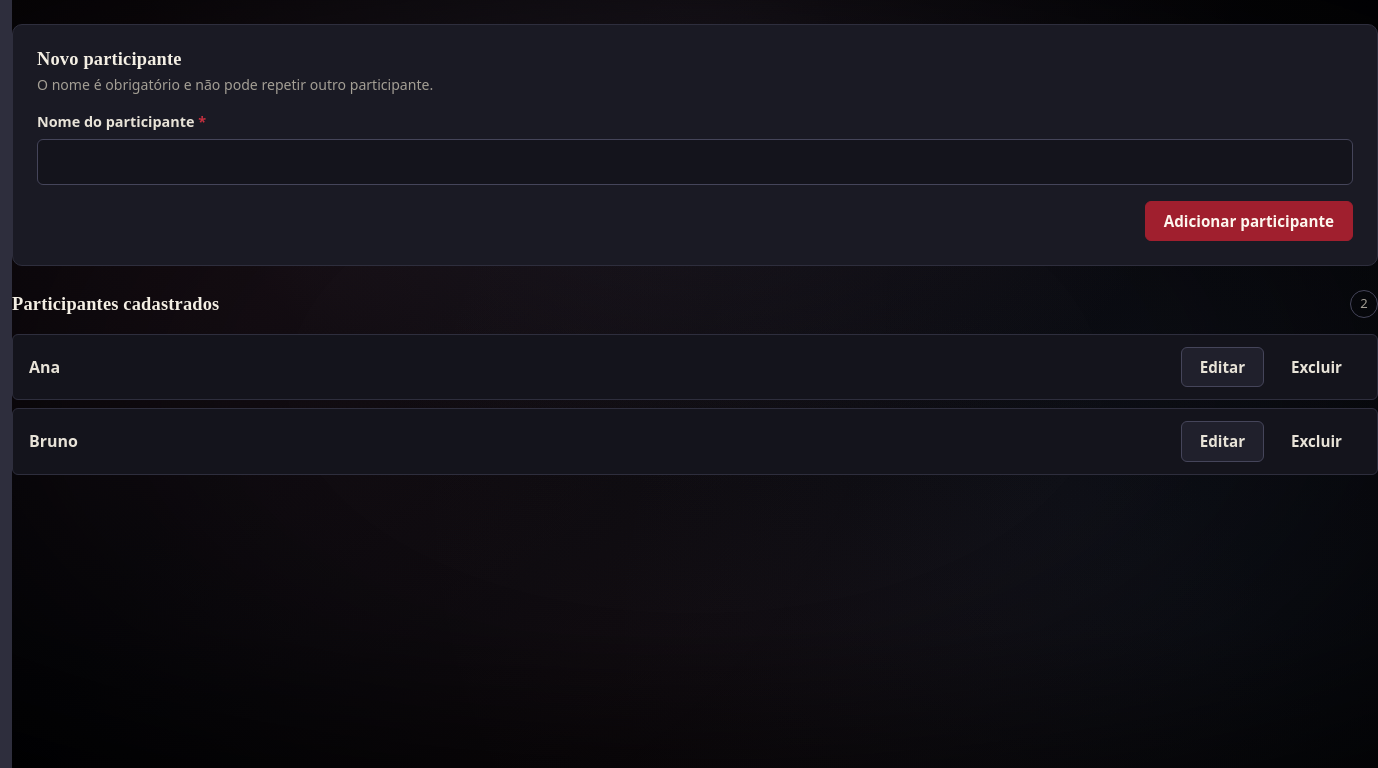
Scenario: ParticipantsPage (integração) › edita um participante mantendo o mesmo id e o vínculo histórico
Check: the text "Ana" is shown, box 29,355 -> 60,379
Step 1. Click the button with aria-label "Editar Ana" → (1222, 367), box 1181,347 -> 1264,387
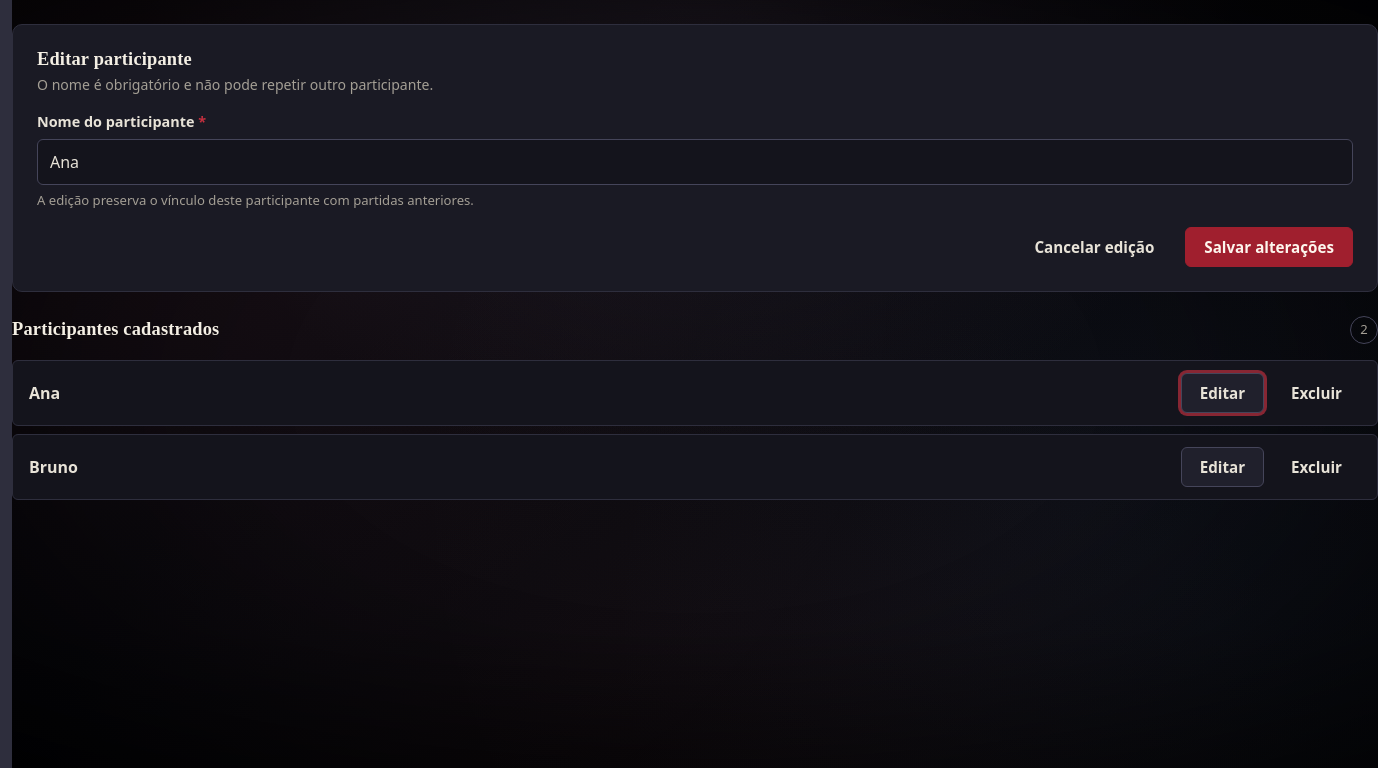
Check: the field labelled "Nome do participante *" holds "Ana"
Step 2. Replace the text in the field labelled "Nome do participante *" with "Ana Maria" → (695, 162), box 37,139 -> 1353,185
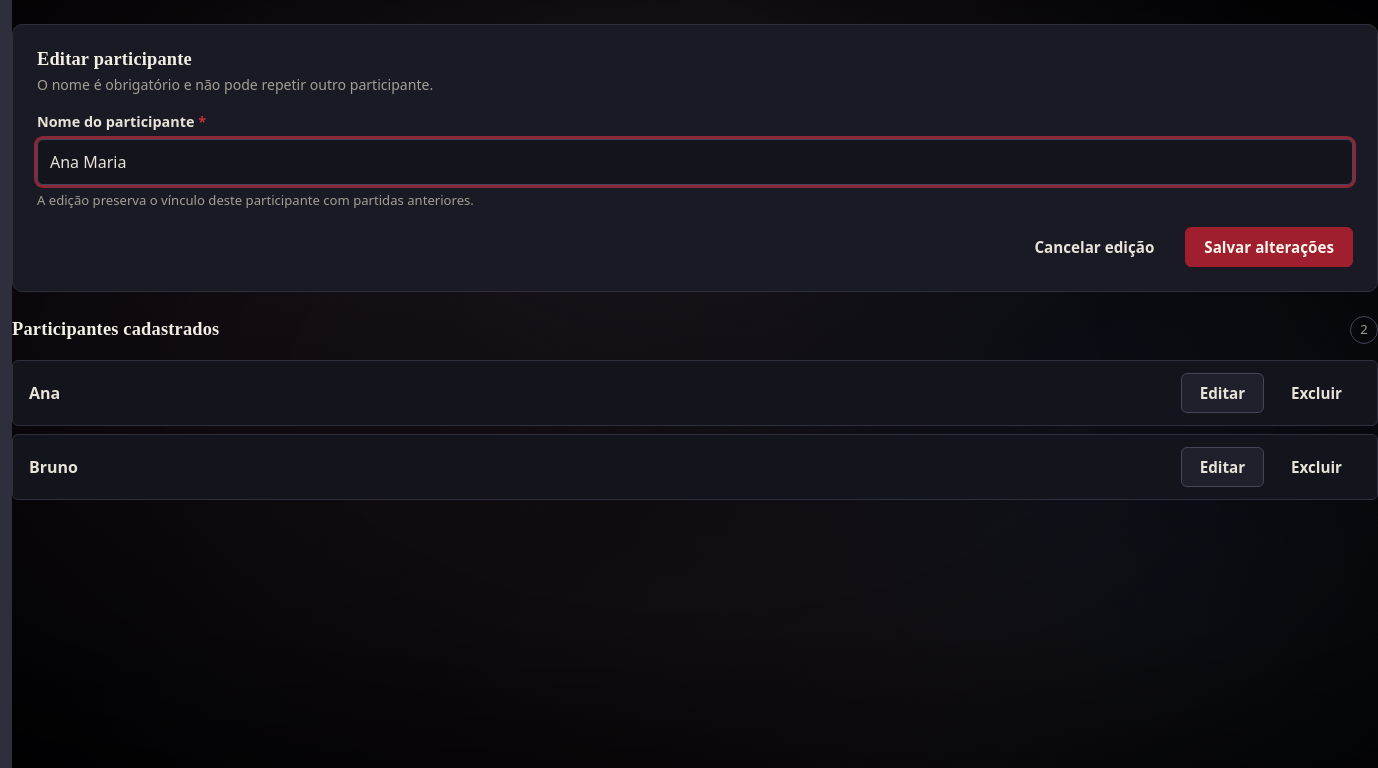
Step 3. Click the button "Salvar alterações" → (1269, 247), box 1185,227 -> 1353,267
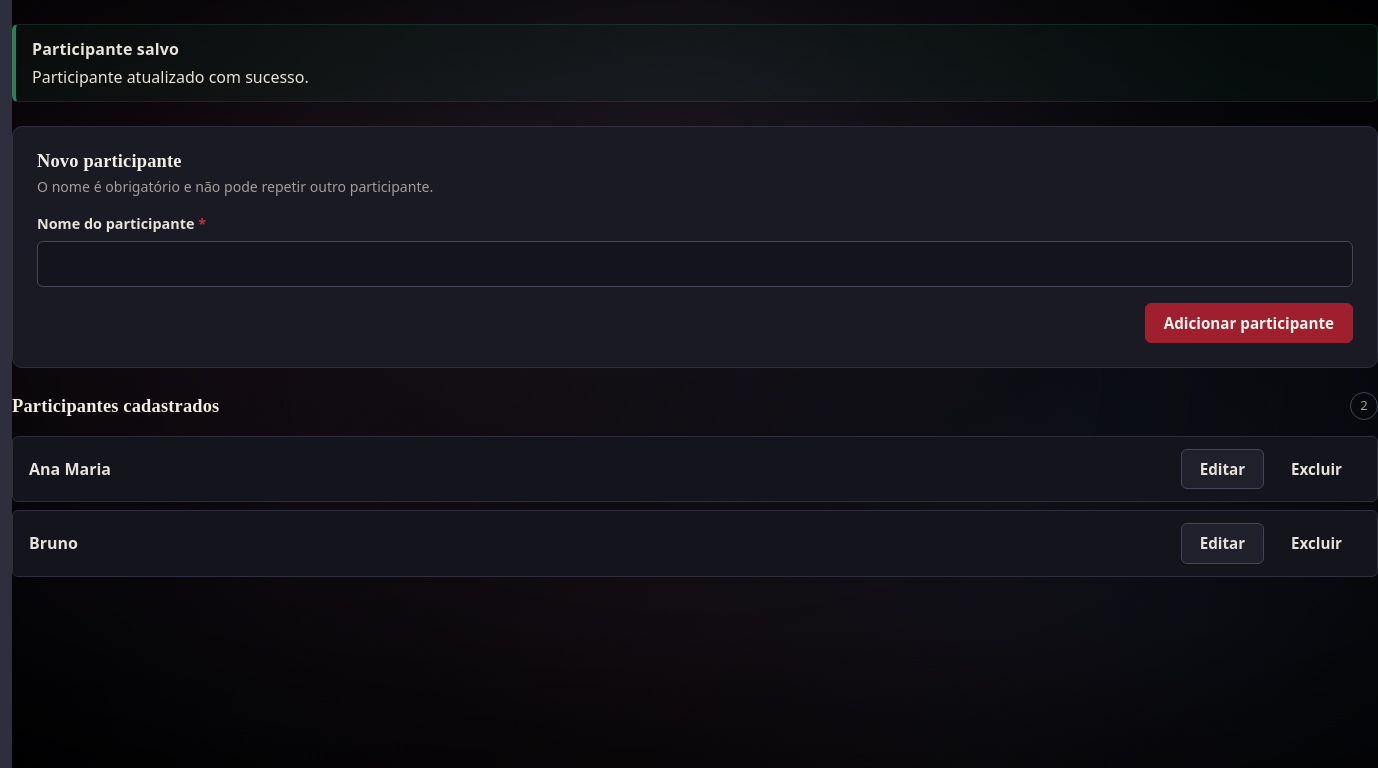
Check: the text "Ana Maria" is shown, box 29,457 -> 111,481
Check: the button with aria-label "Editar Ana Maria" is shown, box 1181,449 -> 1264,489
